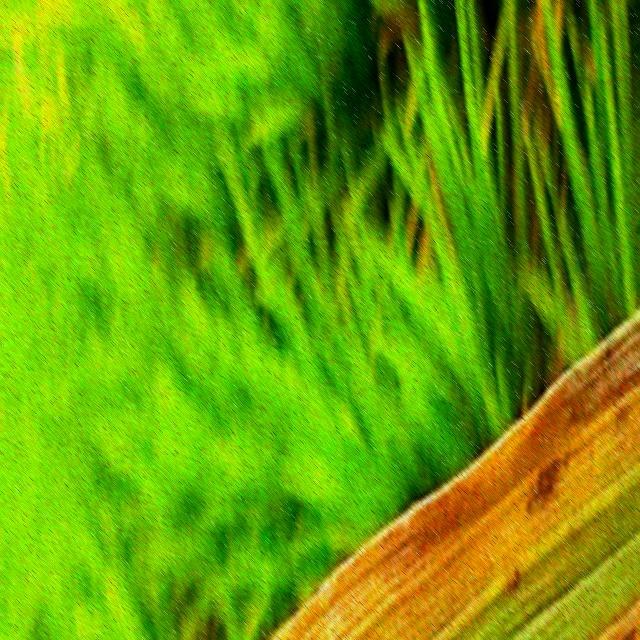LEAF BLAST: (615, 626, 637, 640)
